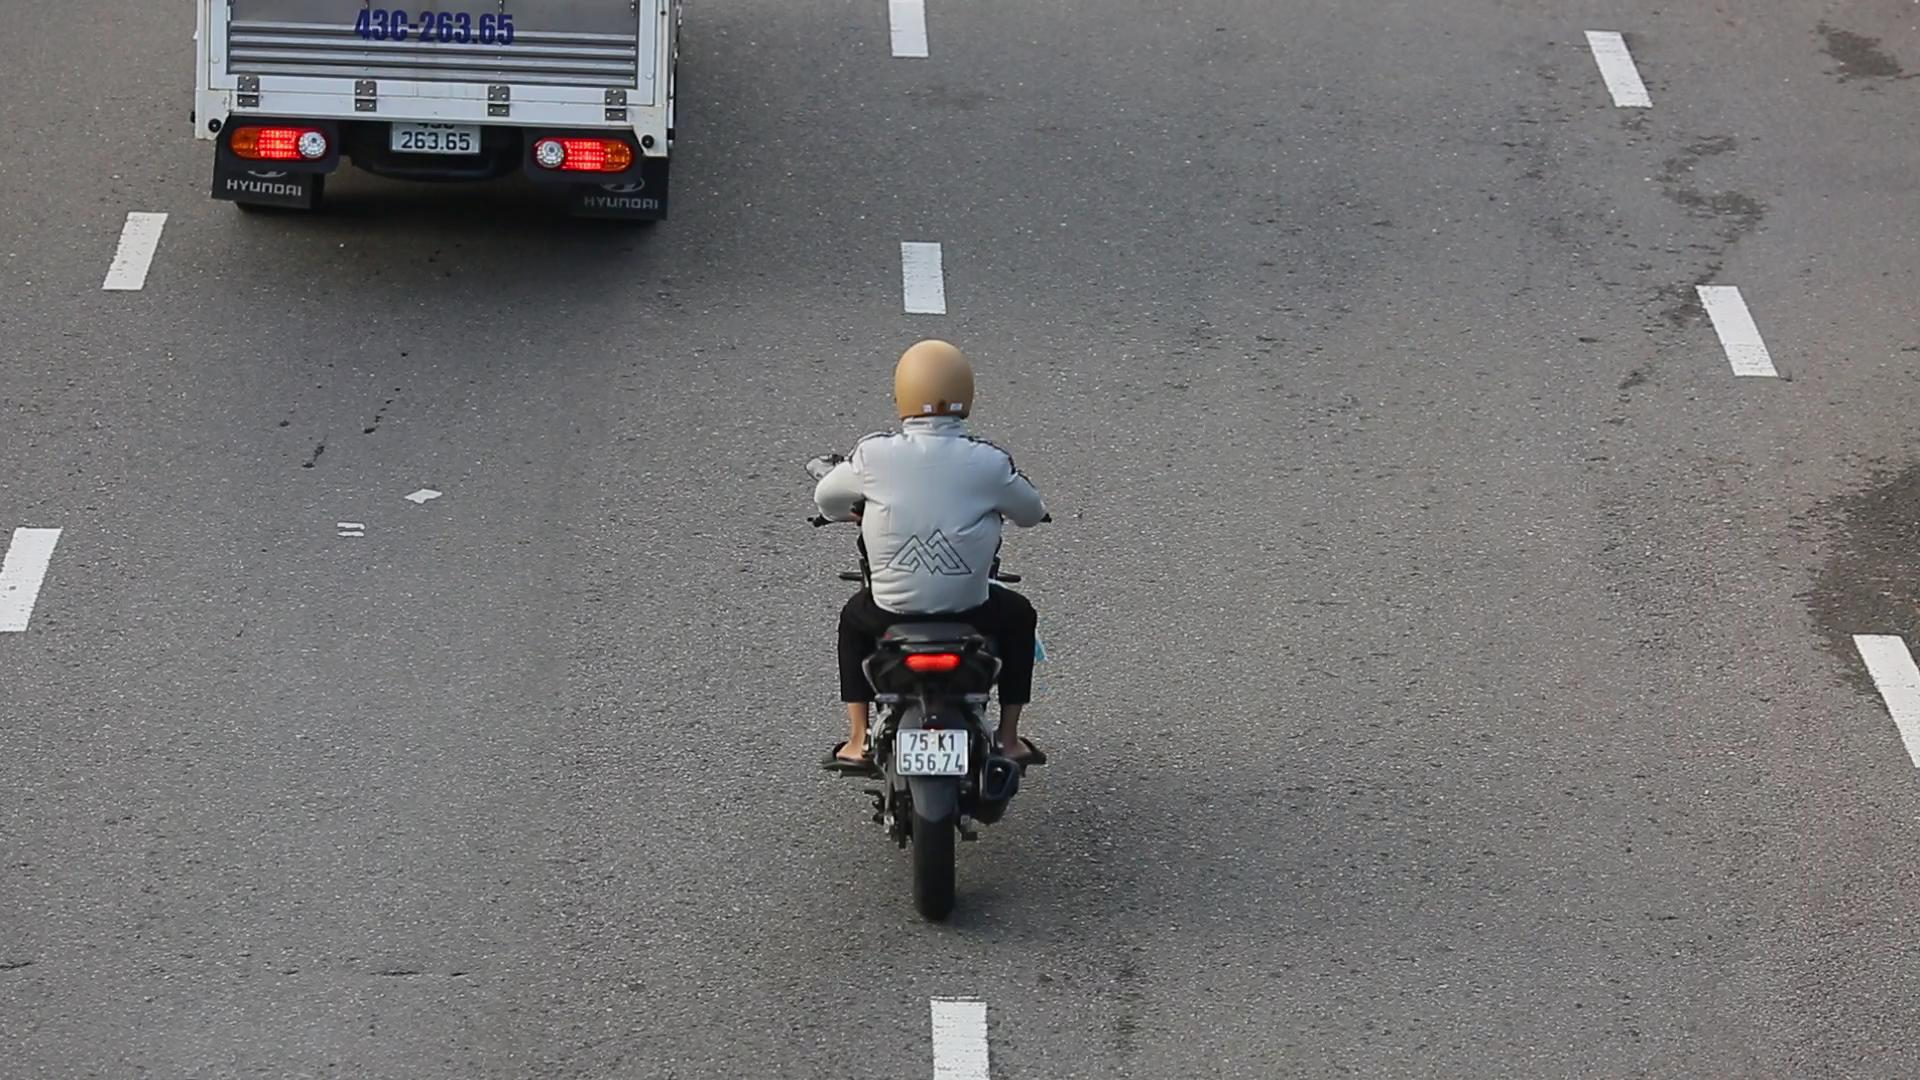motobike: (798, 332, 1054, 920)
